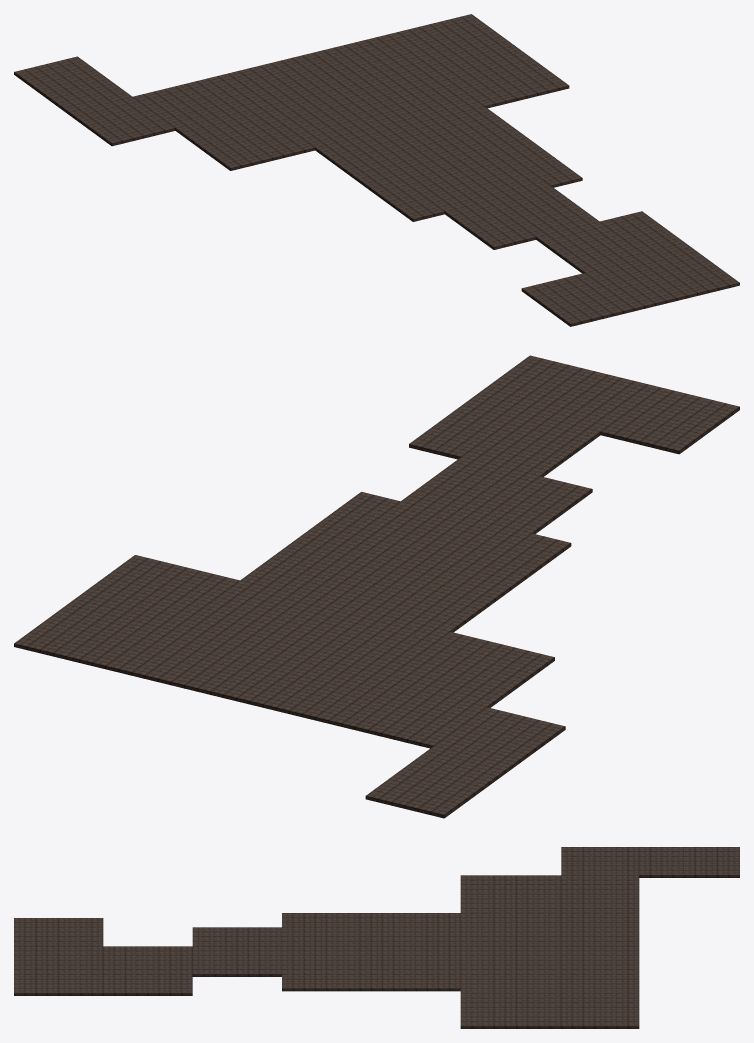
Rendered from TermProject_P3_roof.fbx.
The picture shows the model from 3 angles, top to bottom: view 1: azimuth 30°, elevation 25°; view 2: azimuth 150°, elevation 25°; view 3: azimuth 270°, elevation 25°; orthographic projection. The views are drawn at different scales.
Parts seen in each view (by area): view 1: Floor.659; view 2: Floor.659; view 3: Floor.659.
Part boxes in pixels (x1,y1,x2,y2): Floor.659: (14, 14, 739, 326); Floor.659: (14, 355, 739, 818); Floor.659: (14, 847, 739, 1028).
Size of the model in its own units: 15200 by 100 by 26000.
